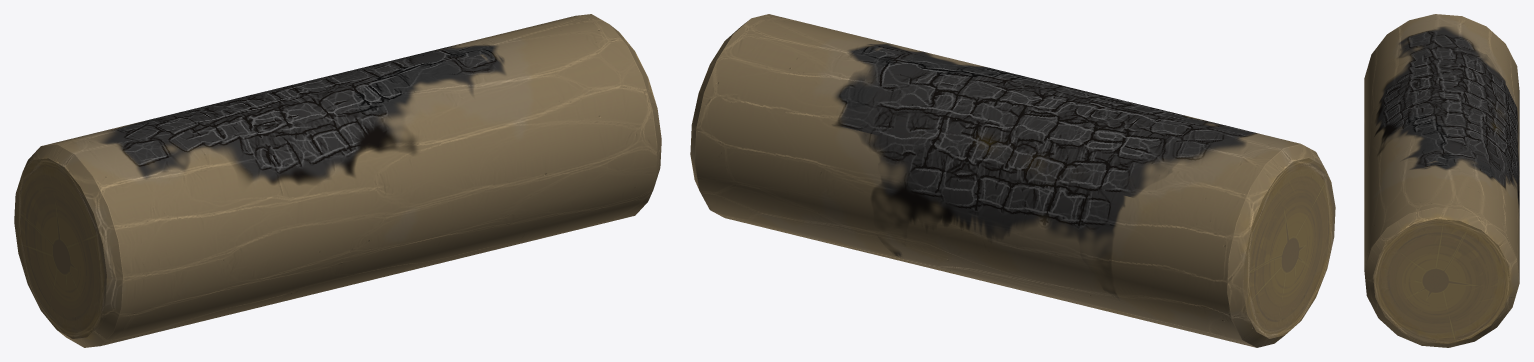
The model's file is burned_wood_low.FBX.
The picture shows the model from 3 angles, left to right: view 1: azimuth 30°, elevation 25°; view 2: azimuth 150°, elevation 25°; view 3: azimuth 270°, elevation 25°; orthographic projection. The views are drawn at different scales.
Parts seen in each view (by area): view 1: Cylinder007; view 2: Cylinder007; view 3: Cylinder007.
Part boxes in pixels (x1,y1,x2,y2): Cylinder007: (14, 14, 661, 347); Cylinder007: (690, 14, 1335, 347); Cylinder007: (1364, 14, 1519, 347).
Bounding box in the file's own units: 205 × 66.76 × 66.76.
1 material, 1 textured.
